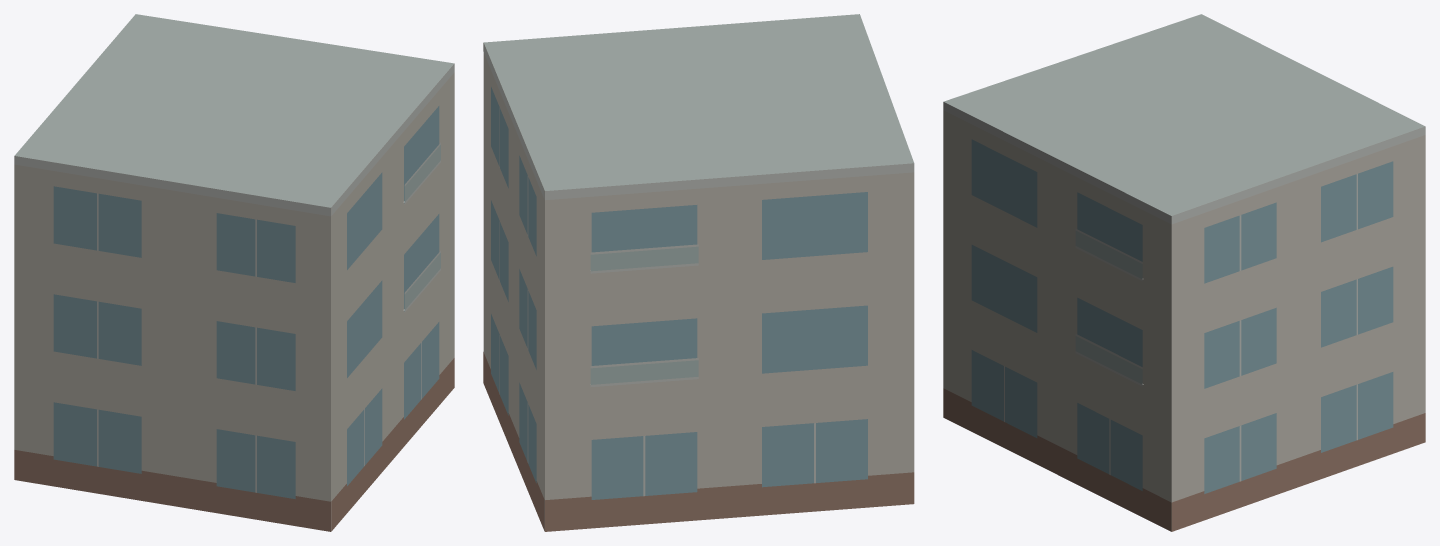
File: survey-upis-32844873.glb
The picture shows the model from 3 angles, left to right: view 1: azimuth 30°, elevation 25°; view 2: azimuth 150°, elevation 25°; view 3: azimuth 270°, elevation 25°; orthographic projection. The views are drawn at different scales.
Visible parts, largest first — view 1: survey-upis-32844873.tmp; view 2: survey-upis-32844873.tmp; view 3: survey-upis-32844873.tmp.
Part boxes in pixels (x1,y1,x2,y2): survey-upis-32844873.tmp: (14, 14, 454, 531); survey-upis-32844873.tmp: (483, 14, 914, 531); survey-upis-32844873.tmp: (943, 14, 1425, 531).
Size of the model in its own units: 12.57 by 9.15 by 12.67.
